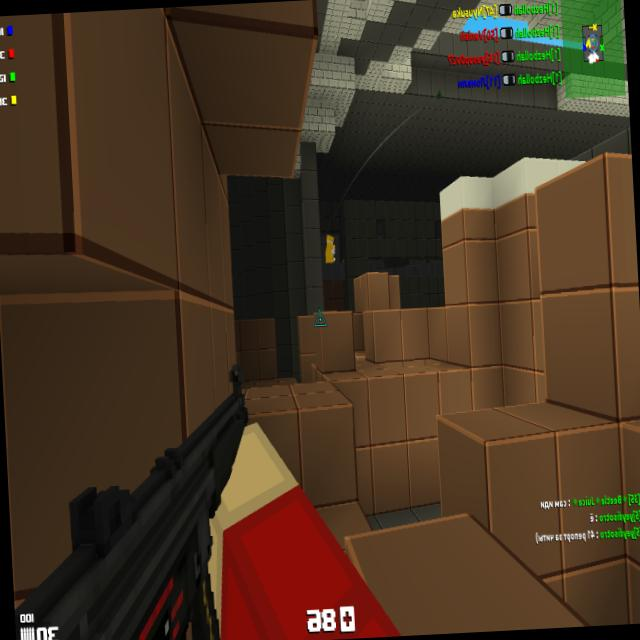enemy: (325, 235, 336, 262), (332, 248, 336, 262)
